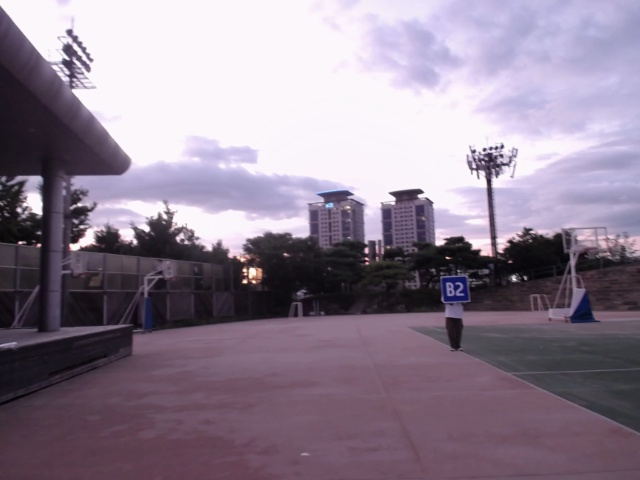delivery_b2: (441, 276, 469, 302)
